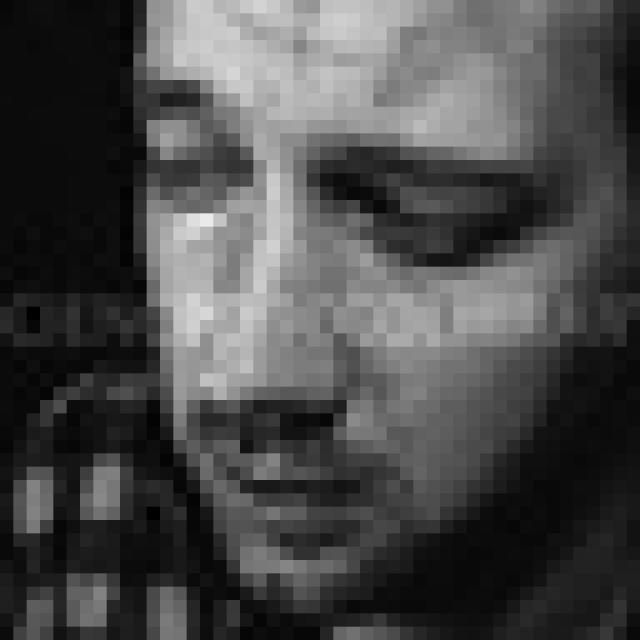sad: (144, 69, 557, 555)
